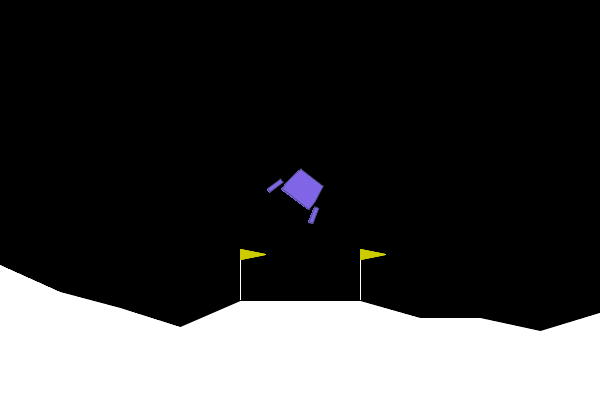lander: (265, 158, 337, 226)
